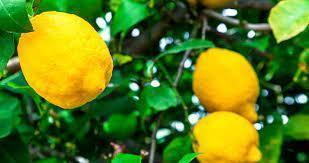lemon: (16, 11, 114, 109), (193, 48, 259, 123), (192, 111, 261, 163)
